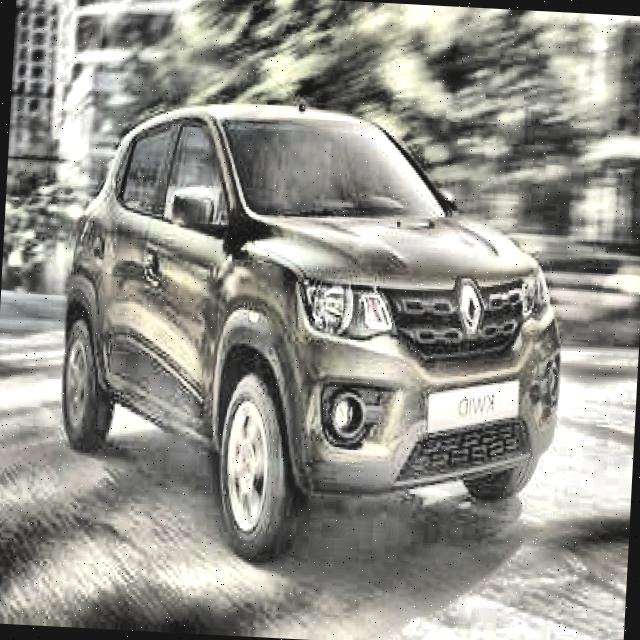license_plate: (433, 380, 520, 438)
